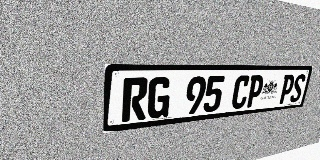5: (202, 76, 225, 113)
9: (184, 76, 207, 115)
C: (230, 75, 251, 110)
G: (146, 77, 172, 119)
P: (245, 75, 265, 108), (278, 74, 296, 104)
R: (121, 77, 149, 122)
S: (289, 74, 306, 103)
